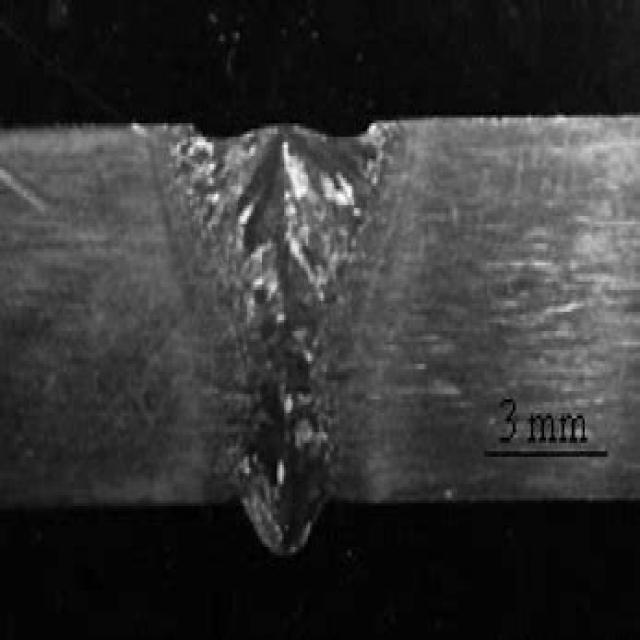Excess Reinforcement: (164, 129, 370, 507)
